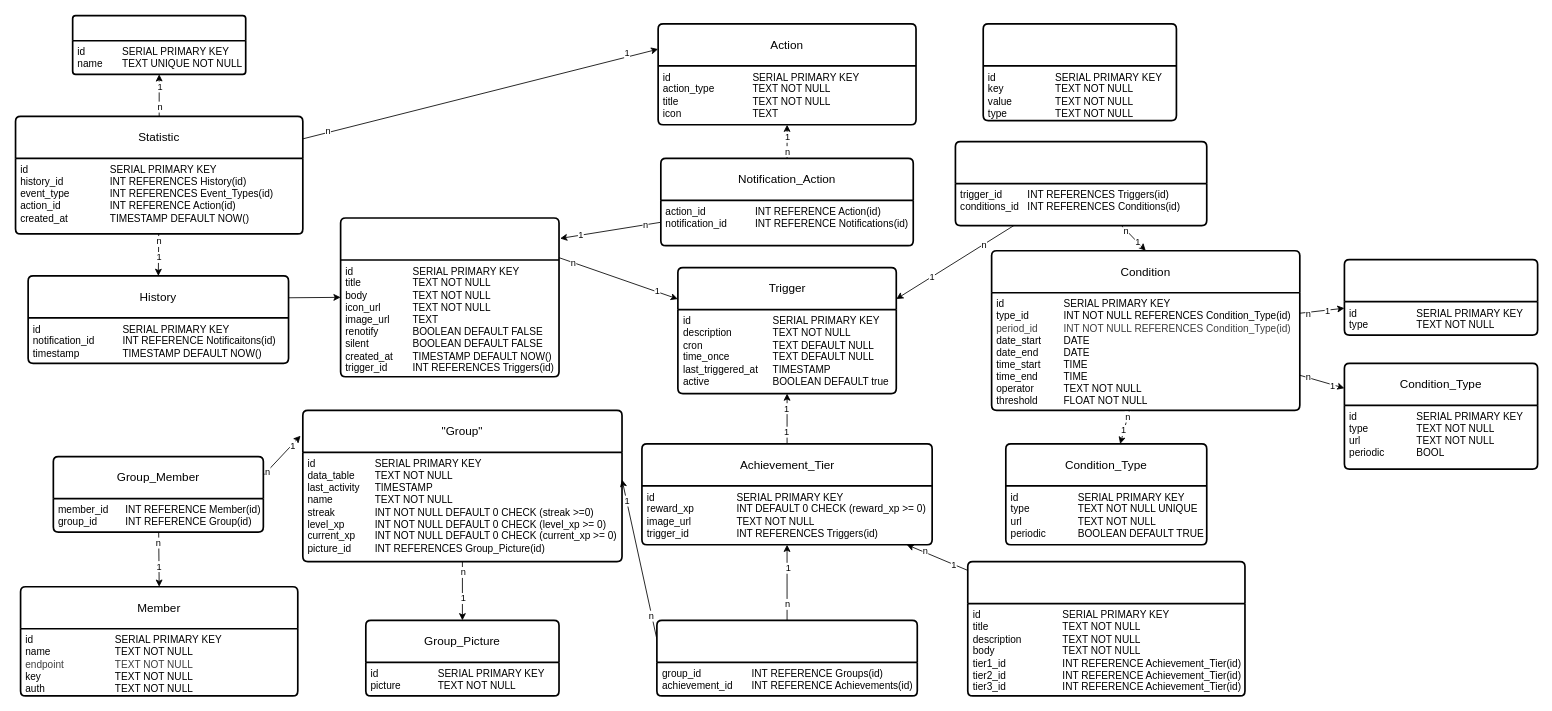
Some shapes in this 1552 by 711 pixel diagram are drawn without their labels. The box of each missing label's shape, as (x1, y1, x2, y2) in pixels:
Achievement_Set: (967, 560, 1245, 696)
Condition_Period: (1343, 258, 1538, 336)
Event_Type: (71, 14, 246, 75)
Group_Achievement: (656, 619, 918, 696)
Notification: (339, 217, 559, 377)
Settings: (982, 23, 1177, 121)
Trigger_Condition: (954, 140, 1207, 226)
